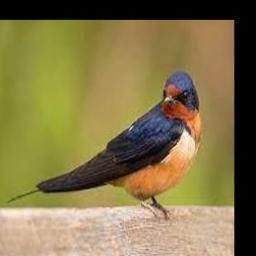Swallow: (7, 71, 203, 221)
